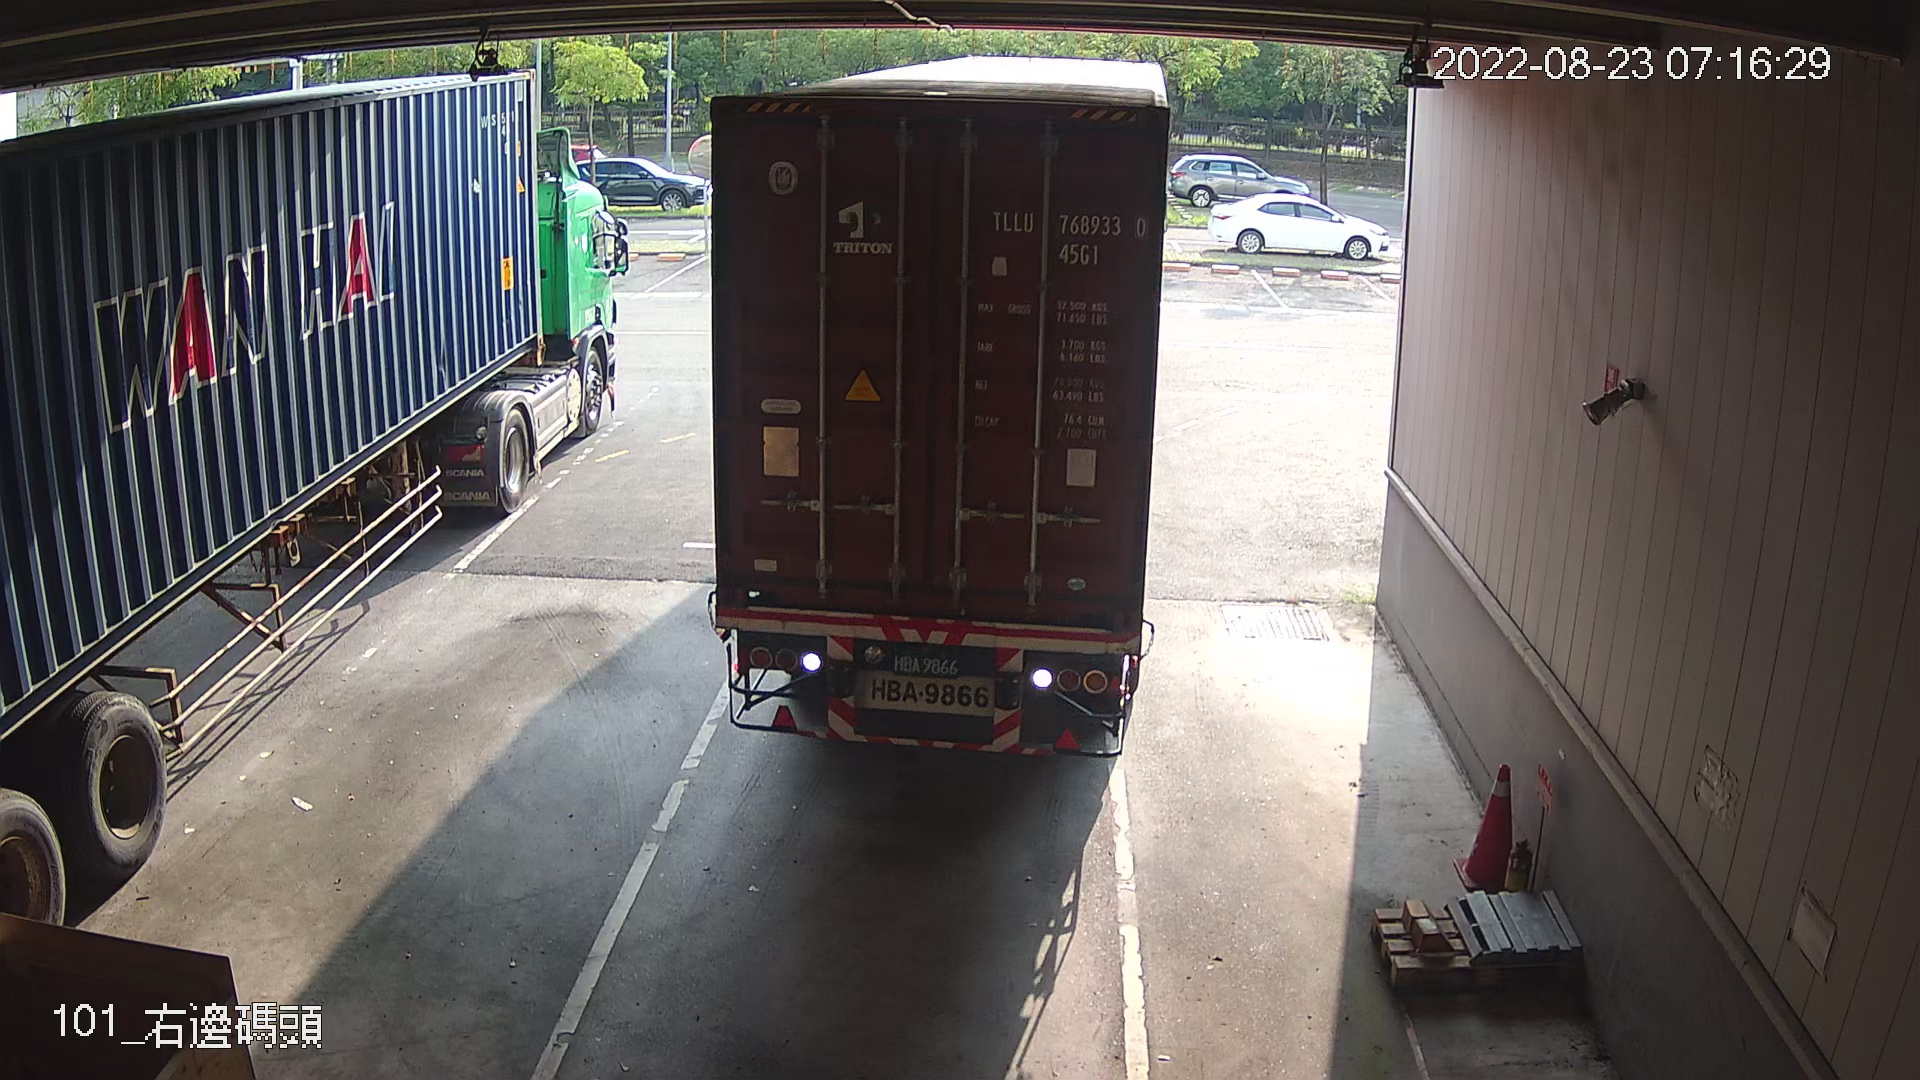container: (985, 199, 1154, 273)
